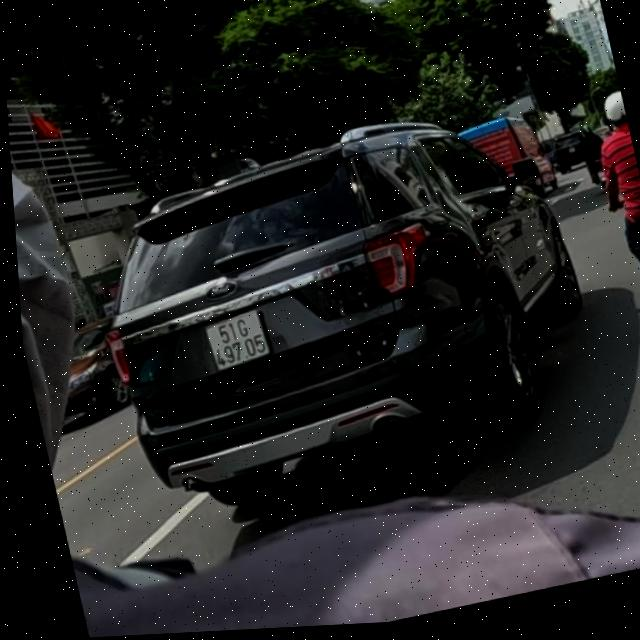car: (67, 88, 624, 539)
plate: (199, 307, 283, 375)
